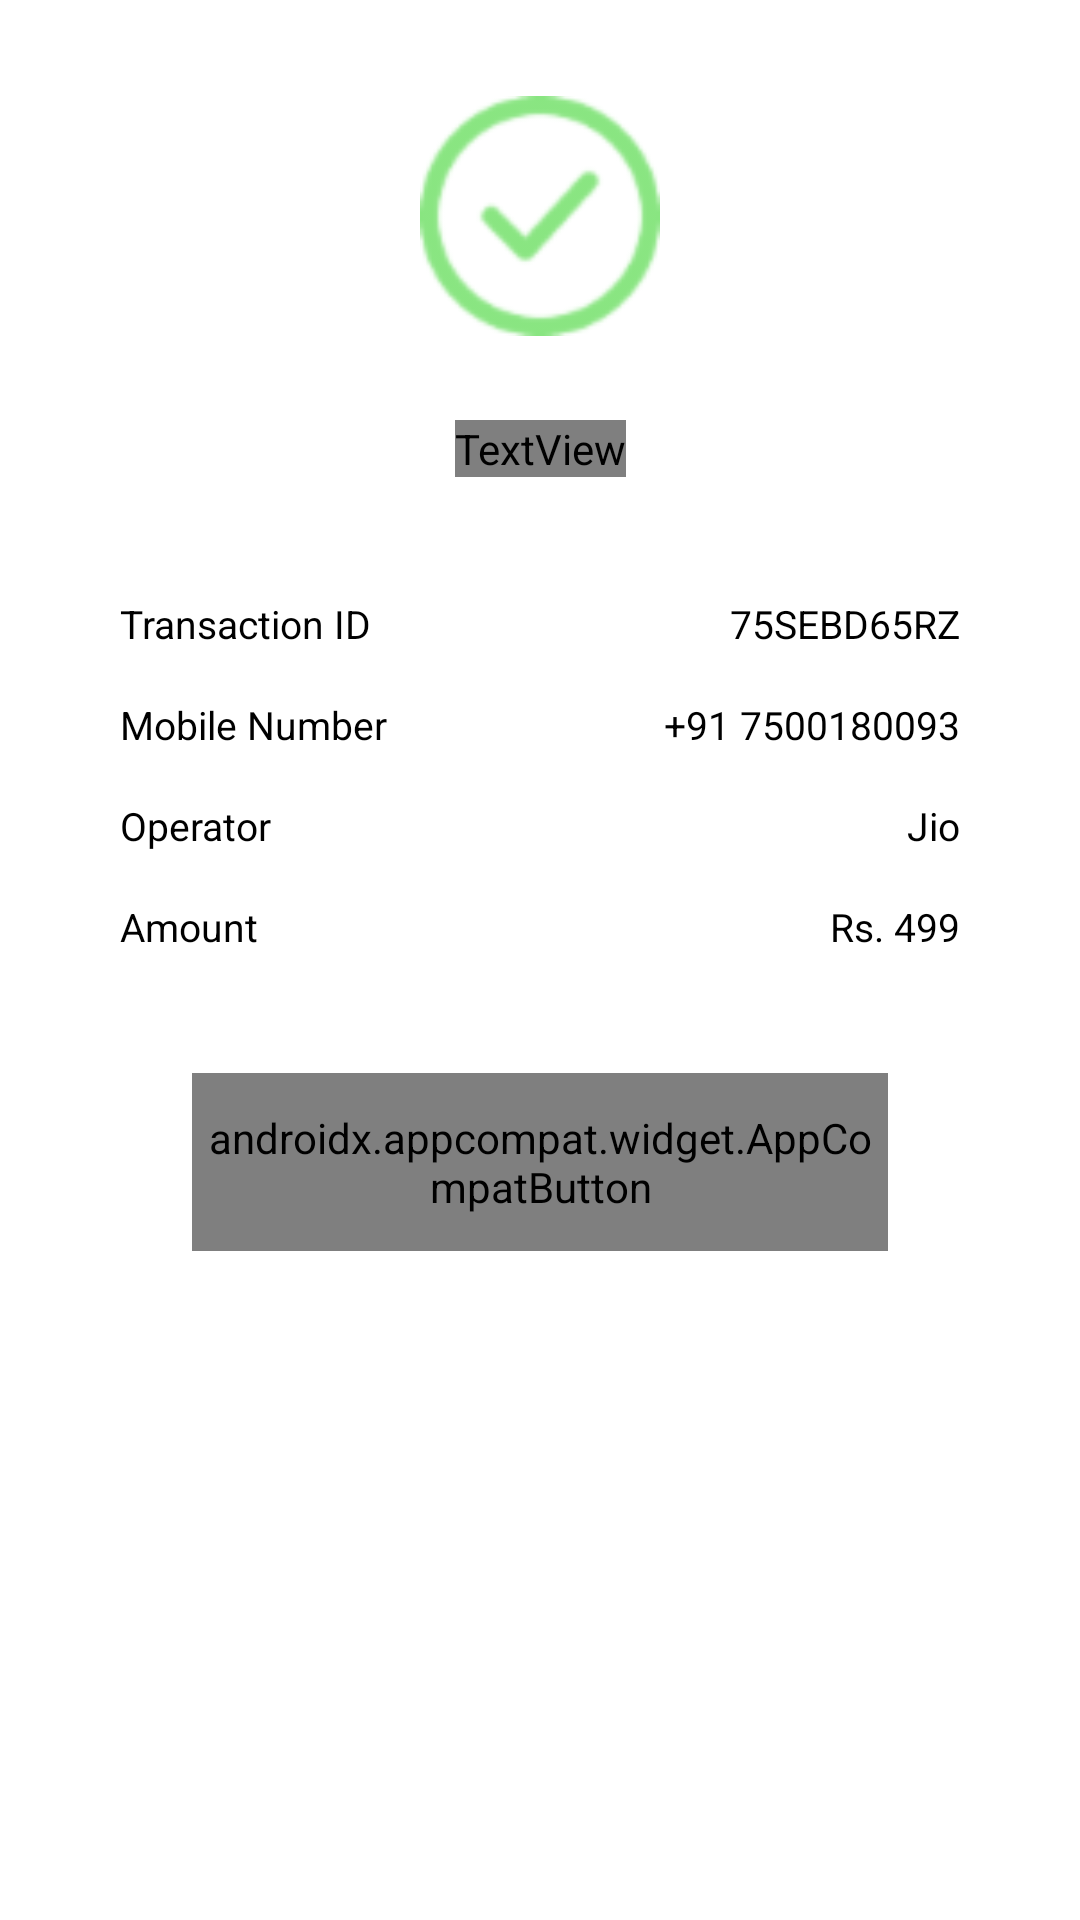

Screen size 1080x1920. Icon name, then its box in pixels as (x1, y1, x2, y2):
success: (420, 96, 660, 336)
